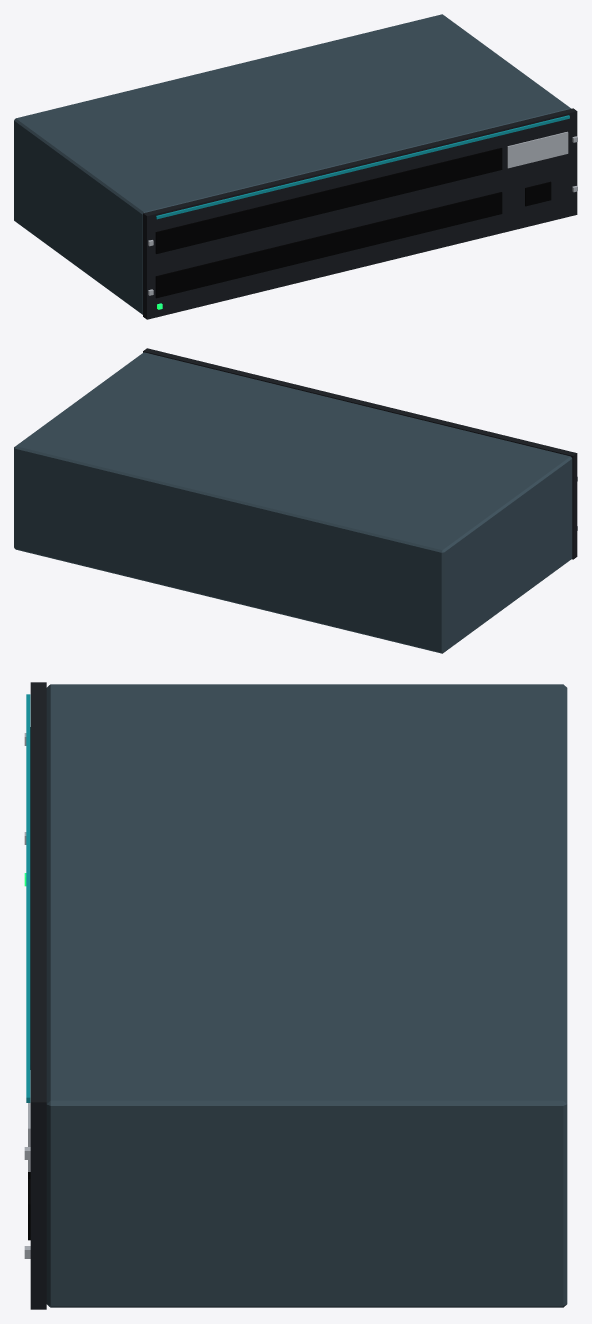
The model's file is switch_24.glb.
The picture shows the model from 3 angles, top to bottom: view 1: azimuth 30°, elevation 25°; view 2: azimuth 150°, elevation 25°; view 3: azimuth 270°, elevation 25°; orthographic projection. The views are drawn at different scales.
Parts seen in each view (by area): view 1: Switch24; view 2: Switch24; view 3: Switch24.
Part boxes in pixels (bbox=[...]): Switch24: bbox=[14, 14, 577, 319]; Switch24: bbox=[14, 348, 577, 653]; Switch24: bbox=[24, 682, 567, 1309].
Size of the model in its own units: 0.5 by 0.115 by 0.273.
